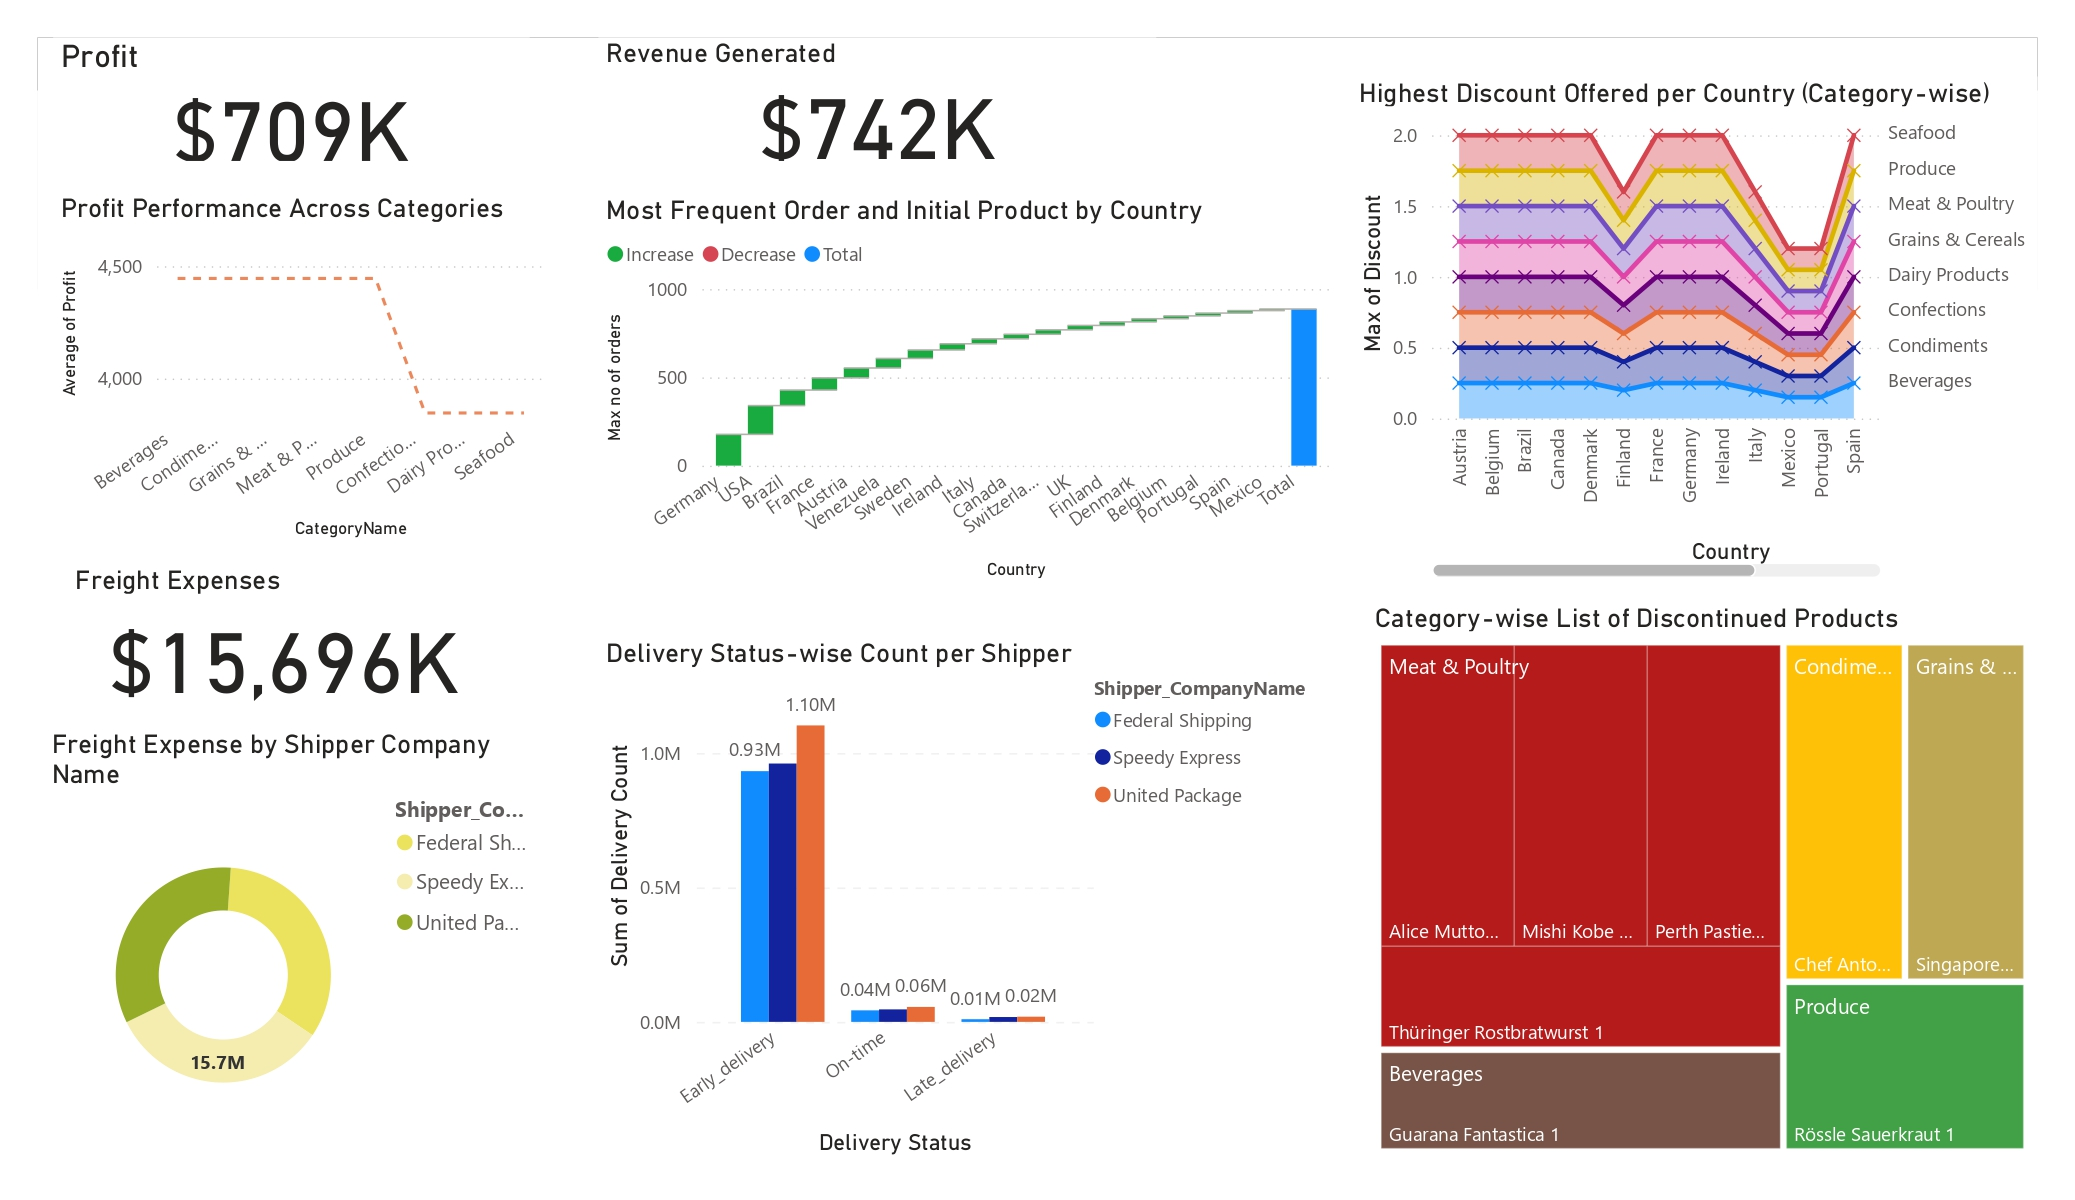

The page's visual inventory and layout, read from the dashboard file:
{"tool":"powerbi","page":{"name":"Cafe","canvas":[1280,720],"ordinal":0},"visuals":[{"type":"clusteredColumnChart","title":"Delivery Status-wise Count per Shipper","fields":{"Y":["Sum(Delivery_timeline.Delivery Count)"],"Category":["Delivery_timeline.Delivery Status"],"Series":["Delivery_timeline.Shipper_CompanyName"]},"box":[359.2,384,472.1,335.8],"z":0},{"type":"treemap","title":"Category-wise List of Discontinued Products","fields":{"Group":["discontinued_product.categoryName"],"Details":["discontinued_product.productName"],"Values":["Sum(discontinued_product.discontinued)"]},"box":[850.6,360.6,429.4,359.2],"z":1000},{"type":"stackedAreaChart","title":"Highest Discount Offered per Country (Category-wise)","fields":{"Category":["discount_order.Country","discount_order.CompanyName"],"Y":["Max(discount_order.Discount)"],"Series":["discount_order.CategoryName"]},"box":[840.9,24.8,439.1,324.8],"z":2000},{"type":"waterfallChart","title":"Most Frequent Order and Initial Product by Country","fields":{"Category":["Frequent_order.Country"],"Y":["Max(Frequent_order.OrderId)"]},"box":[358.7,99.6,472.9,251.1],"z":3000},{"type":"card","title":"Profit","fields":{"Values":["Sum(revenue_and_Profit.Profit)"]},"box":[9.6,0,305.5,84],"z":4000},{"type":"lineChart","title":"Profit Performance Across Categories","fields":{"Category":["revenue_and_Profit.CategoryName"],"Y":["Avg(revenue_and_Profit.Profit)"]},"box":[9.6,99.1,319.3,225.7],"z":5000},{"type":"donutChart","title":"Freight Expense by Shipper Company Name","fields":{"Category":["Delivery_timeline.Shipper_CompanyName"],"Y":["Sum(product_details.freight)"]},"box":[4.1,441.8,324.8,278],"z":6000},{"type":"card","title":"Freight Expenses","fields":{"Values":["Sum(product_details.freight)"]},"box":[19.3,337.2,276.6,93.6],"z":7000},{"type":"card","title":"Revenue Generated","fields":{"Values":["Sum(revenue_and_Profit.Quantity_price)"]},"box":[359.2,0,356.5,84],"z":8000}]}

Visuals, with their boxes in screenshot pixels (x1, y1, x2, y2):
"Delivery Status-wise Count per Shipper" clusteredColumnChart: [left=599, top=638, right=1336, bottom=1162]
"Category-wise List of Discontinued Products" treemap: [left=1367, top=601, right=2038, bottom=1162]
"Highest Discount Offered per Country (Category-wise)" stackedAreaChart: [left=1351, top=76, right=2038, bottom=584]
"Most Frequent Order and Initial Product by Country" waterfallChart: [left=598, top=193, right=1337, bottom=585]
"Profit" card: [left=52, top=38, right=530, bottom=169]
"Profit Performance Across Categories" lineChart: [left=52, top=192, right=551, bottom=545]
"Freight Expense by Shipper Company Name" donutChart: [left=44, top=728, right=551, bottom=1162]
"Freight Expenses" card: [left=68, top=564, right=500, bottom=711]
"Revenue Generated" card: [left=599, top=38, right=1156, bottom=169]
